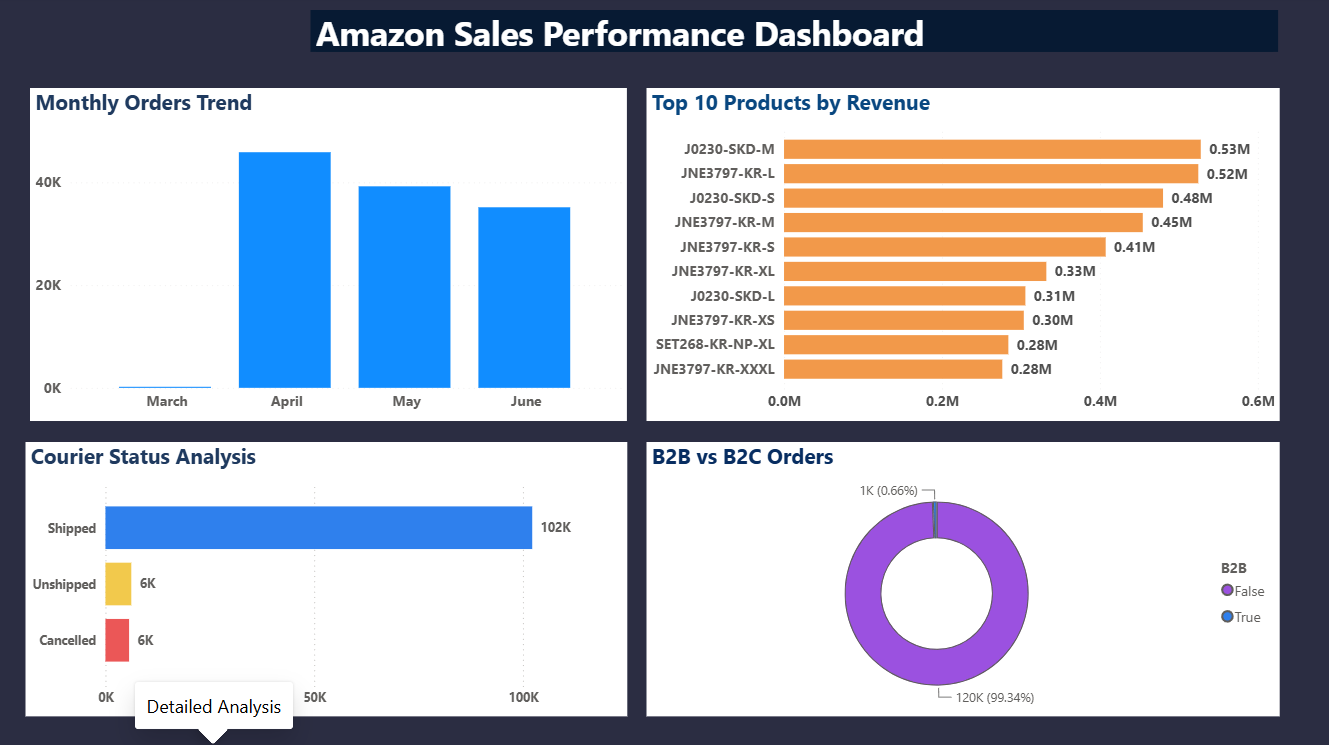

This screenshot's page, from the dashboard's own definition file:
{"tool":"powerbi","page":{"name":"Detailed Analysis","canvas":[1280,720],"ordinal":1},"visuals":[{"type":"clusteredColumnChart","title":"Monthly Orders Trend","fields":{"Y":["Amazon_Sales.Total Orders"],"Category":["Calendar.Month"]},"box":[37.2,88.8,570.1,318],"z":1000},{"type":"clusteredBarChart","title":"Courier Status Analysis","fields":{"Y":["Amazon_Sales.Total Orders"],"Category":["Amazon_Sales.Courier Status"]},"box":[32.9,426.9,574.4,262.1],"z":2000},{"type":"clusteredBarChart","title":"Top 10 Products by Revenue","fields":{"Category":["Amazon_Sales.SKU"],"Y":["Amazon_Sales.Total Revenue"]},"box":[626,88.8,604.5,318],"z":3000},{"type":"donutChart","title":"B2B vs B2C Orders","fields":{"Category":["Amazon_Sales.B2B"],"Y":["Amazon_Sales.Total Orders"]},"box":[626,426.9,604.5,262.1],"z":4000},{"type":"textbox","title":"Amazon Sales Performance Dashboard","box":[305.4,14.3,924.1,39.8],"z":4002}]}

Visuals, with their boxes in screenshot pixels (x1, y1, x2, y2), scaled from the page's 1280x720 canvas onto the 1329x745 screenshot:
"Monthly Orders Trend" clusteredColumnChart: {"x1": 39, "y1": 92, "x2": 631, "y2": 421}
"Courier Status Analysis" clusteredBarChart: {"x1": 34, "y1": 442, "x2": 631, "y2": 713}
"Top 10 Products by Revenue" clusteredBarChart: {"x1": 650, "y1": 92, "x2": 1278, "y2": 421}
"B2B vs B2C Orders" donutChart: {"x1": 650, "y1": 442, "x2": 1278, "y2": 713}
"Amazon Sales Performance Dashboard" textbox: {"x1": 317, "y1": 15, "x2": 1277, "y2": 56}
